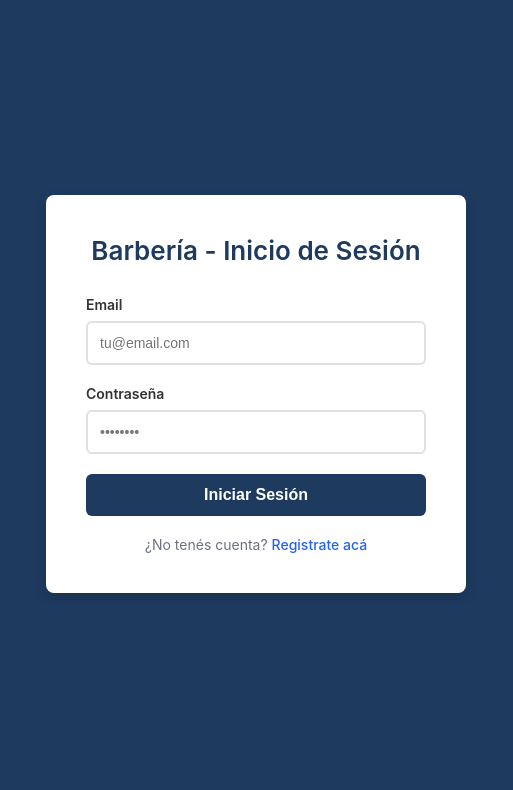
it: App - Test de Integración › debe permitir navegar de Login a Register
The width and height of the screenshot is (513, 790).
What coordinates should you click on to do the following:
click the link "Registrate acá"
I would click on:
 (319, 544)
Its box is [272,536,367,553].
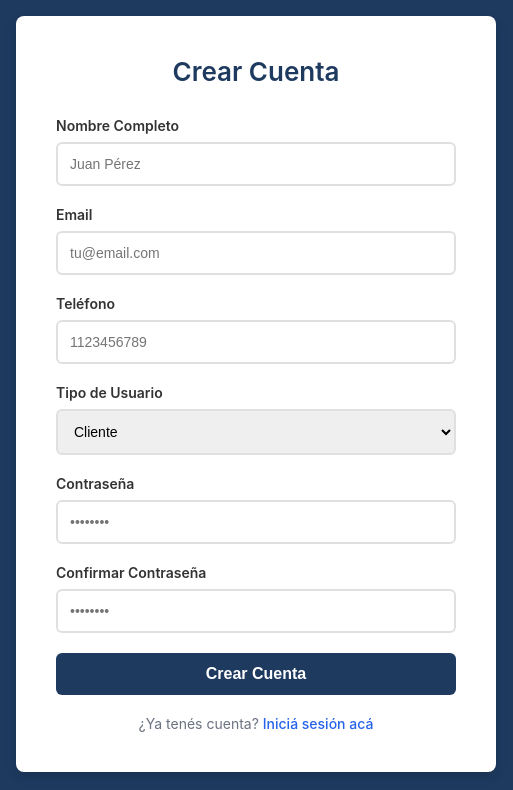
Expected: the heading "Crear Cuenta" is shown, [172,56,339,87]
